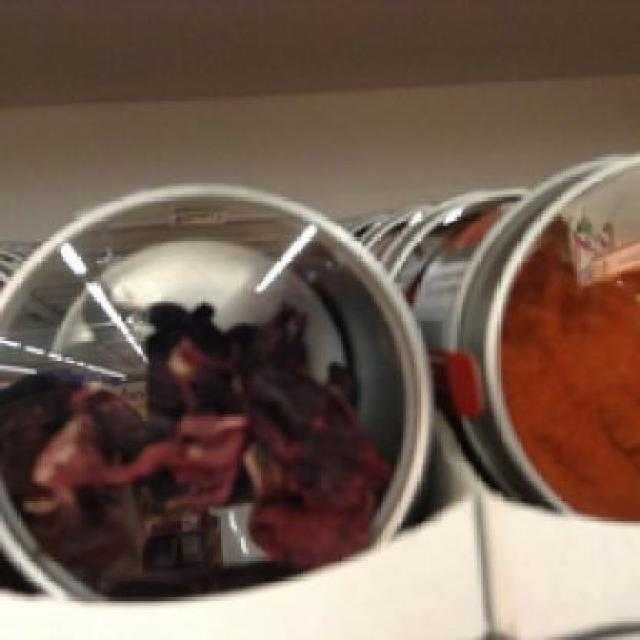Spices: (0, 180, 423, 594), (448, 151, 638, 524)
